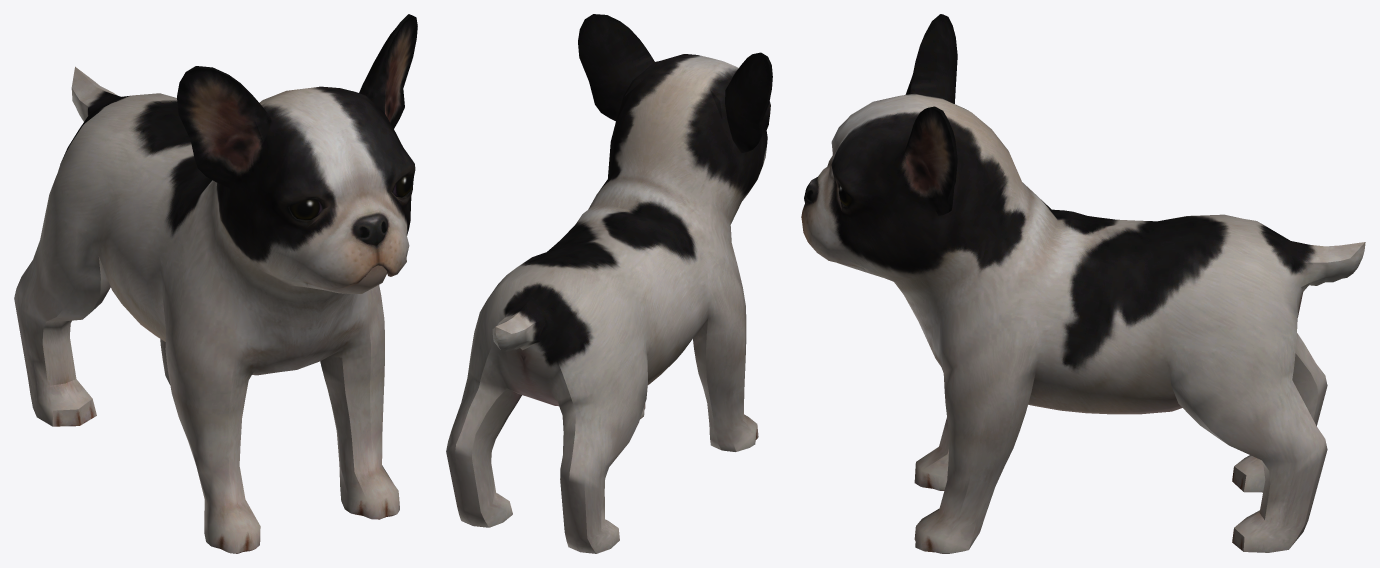
Rendered from perro011.glb.
3 renders of one model, left to right at view 1: azimuth 30°, elevation 25°; view 2: azimuth 150°, elevation 25°; view 3: azimuth 270°, elevation 25°, orthographic. The views are drawn at different scales.
Parts seen in each view (by area): view 1: Object_2; view 2: Object_2; view 3: Object_2.
Part boxes in pixels (x1,y1,x2,y2): Object_2: (14, 14, 417, 553); Object_2: (446, 14, 772, 553); Object_2: (801, 14, 1365, 553).
Size of the model in its own units: 6.35 by 12.39 by 13.92.
Materials: 1 (1 with a texture image).
